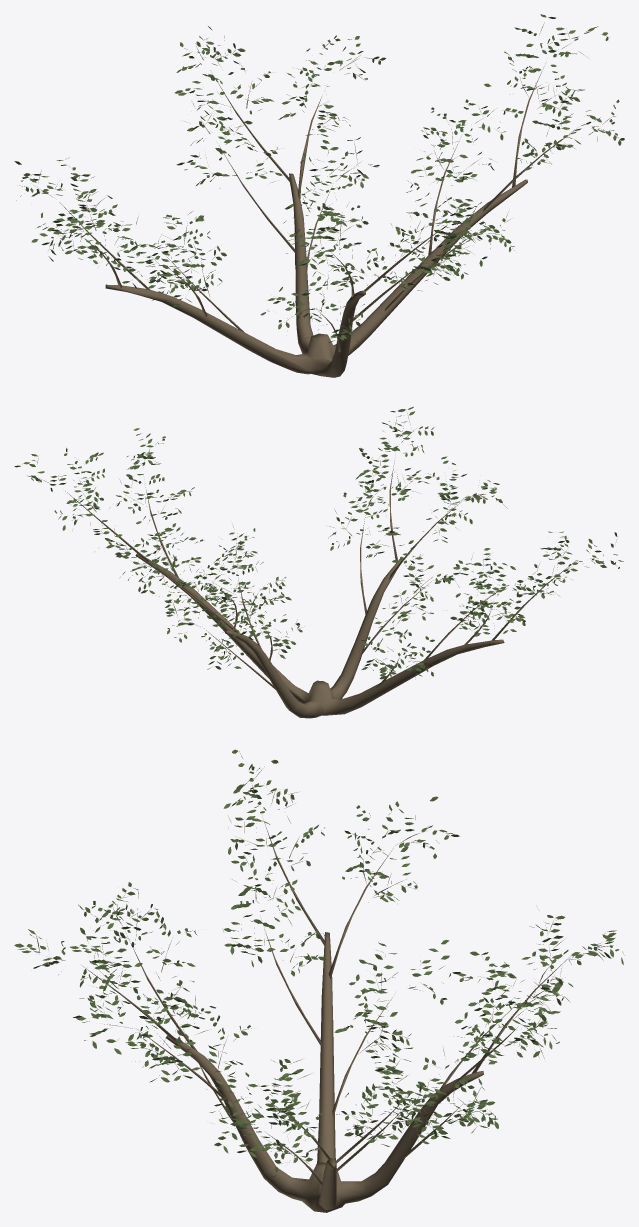
Rendered from Lentisque_2_Niveau1.fbx.
3 renders of one model, top to bottom at view 1: azimuth 30°, elevation 25°; view 2: azimuth 150°, elevation 25°; view 3: azimuth 270°, elevation 25°, orthographic. The views are drawn at different scales.
Visible parts, largest first — view 1: Lentisque_2_Niveau1; view 2: Lentisque_2_Niveau1; view 3: Lentisque_2_Niveau1.
Part boxes in pixels (<box>): Lentisque_2_Niveau1: <box>14,14,624,377</box>; Lentisque_2_Niveau1: <box>14,406,623,718</box>; Lentisque_2_Niveau1: <box>14,749,624,1212</box>.
Size of the model in its own units: 303 by 122 by 221.
